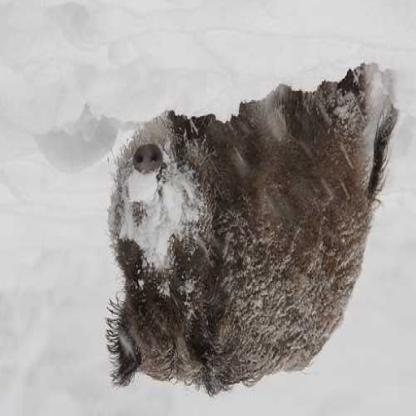boar: (78, 48, 415, 414)
